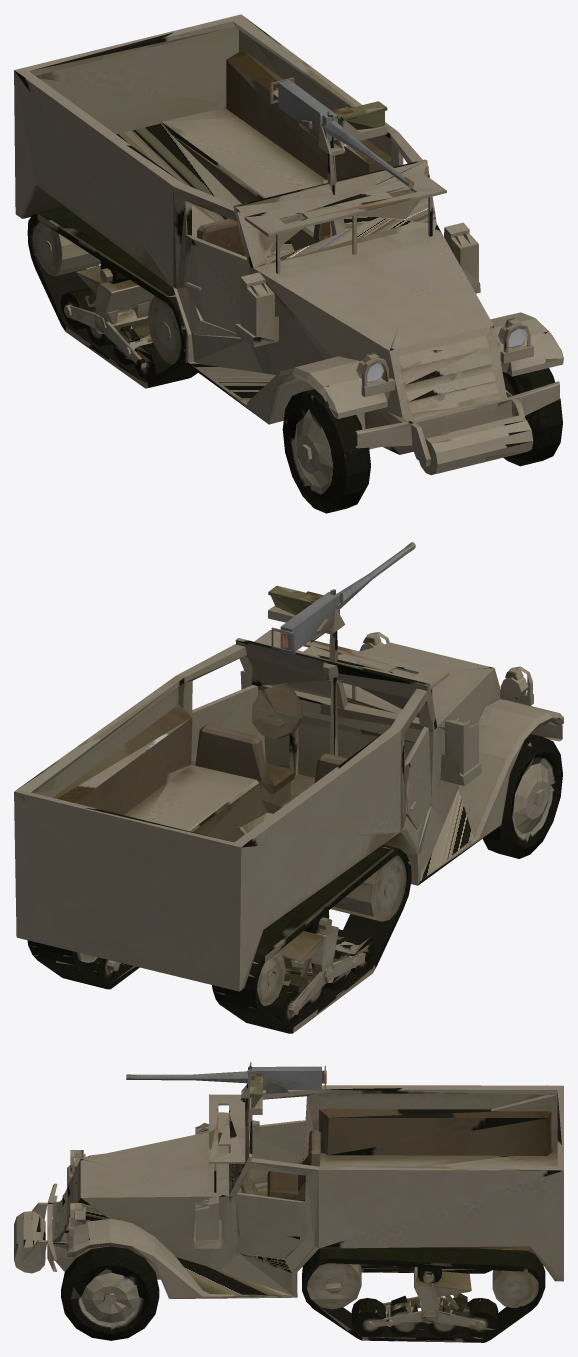
File: golan73_israeli_mech_0.glb
3 views of the same model, one above another, from view 1: azimuth 30°, elevation 25°; view 2: azimuth 150°, elevation 25°; view 3: azimuth 270°, elevation 25° (orthographic). The views are drawn at different scales.
Visible parts, largest first — view 1: geometry_0; view 2: geometry_0; view 3: geometry_0.
Part boxes in pixels (x1,y1,x2,y2): geometry_0: [14, 14, 563, 513]; geometry_0: [14, 542, 563, 1033]; geometry_0: [14, 1062, 563, 1342].
Bounding box in the file's own units: 0.3293 × 0.4068 × 0.8633.
1 material, 1 textured.
